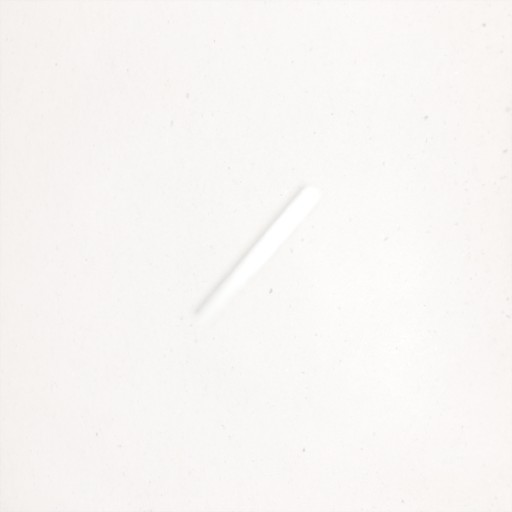lego: (191, 182, 318, 328)
